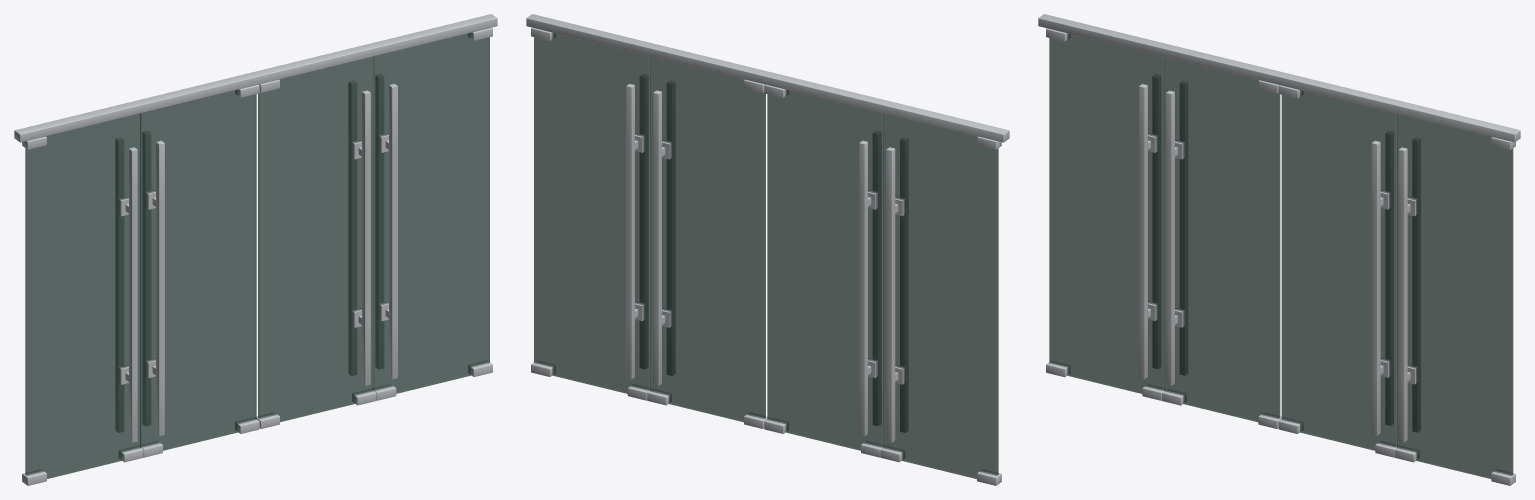
The model's file is glass_door01_fbx.FBX.
3 renders of one model, left to right at view 1: azimuth 30°, elevation 25°; view 2: azimuth 150°, elevation 25°; view 3: azimuth 330°, elevation 25°, orthographic.
Parts seen in each view (by area): view 1: door, ChamferBox002, ChamferBox001, ChamferBox003; view 2: door, ChamferBox002, ChamferBox001, ChamferBox003; view 3: door, ChamferBox002, ChamferBox001, ChamferBox003.
Boxes of the visible parts, x1,y1,x2,y2 form: door: (25, 33, 489, 478); ChamferBox002: (115, 74, 397, 442); ChamferBox001: (14, 14, 497, 142); ChamferBox003: (22, 27, 492, 485); door: (534, 33, 998, 478); ChamferBox002: (626, 74, 908, 442); ChamferBox001: (526, 14, 1009, 142); ChamferBox003: (531, 27, 1001, 485); door: (1049, 33, 1513, 478); ChamferBox002: (1139, 74, 1420, 442); ChamferBox001: (1038, 14, 1520, 142); ChamferBox003: (1046, 28, 1515, 485).
Bounding box in the file's own units: 123 × 87.1 × 7.57.
